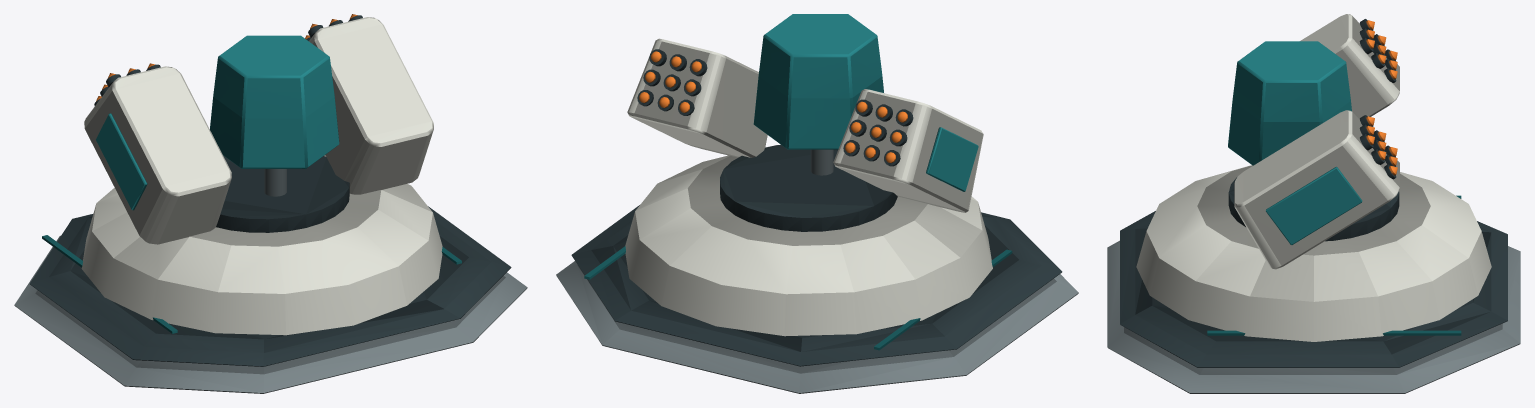
File: SkywardArray.glb
3 renders of one model, left to right at view 1: azimuth 30°, elevation 25°; view 2: azimuth 150°, elevation 25°; view 3: azimuth 270°, elevation 25°, orthographic. The views are drawn at different scales.
Parts seen in each view (by area): view 1: export_SkywardArray_Foundation, export_SkywardArray_Launcher, export_SkywardArray_RadarMast, export_SkywardArray_Launcher.001; view 2: export_SkywardArray_Foundation, export_SkywardArray_RadarMast, export_SkywardArray_Launcher, export_SkywardArray_Launcher.001; view 3: export_SkywardArray_Foundation, export_SkywardArray_Launcher.001, export_SkywardArray_RadarMast, export_SkywardArray_Launcher.
Part boxes in pixels (left/top/right/bottom): export_SkywardArray_Foundation: left=14, top=155, right=527, bottom=393; export_SkywardArray_Launcher: left=84, top=63, right=231, bottom=244; export_SkywardArray_RadarMast: left=210, top=35, right=339, bottom=196; export_SkywardArray_Launcher.001: left=305, top=14, right=433, bottom=194; export_SkywardArray_Foundation: left=556, top=144, right=1078, bottom=393; export_SkywardArray_RadarMast: left=753, top=14, right=883, bottom=175; export_SkywardArray_Launcher: left=833, top=89, right=983, bottom=212; export_SkywardArray_Launcher.001: left=627, top=38, right=767, bottom=157; export_SkywardArray_Foundation: left=1107, top=165, right=1520, bottom=393; export_SkywardArray_Launcher.001: left=1234, top=110, right=1399, bottom=269; export_SkywardArray_RadarMast: left=1228, top=41, right=1351, bottom=165; export_SkywardArray_Launcher: left=1300, top=14, right=1399, bottom=119.
Bounding box in the file's own units: 4.47 × 2.58 × 4.07.
